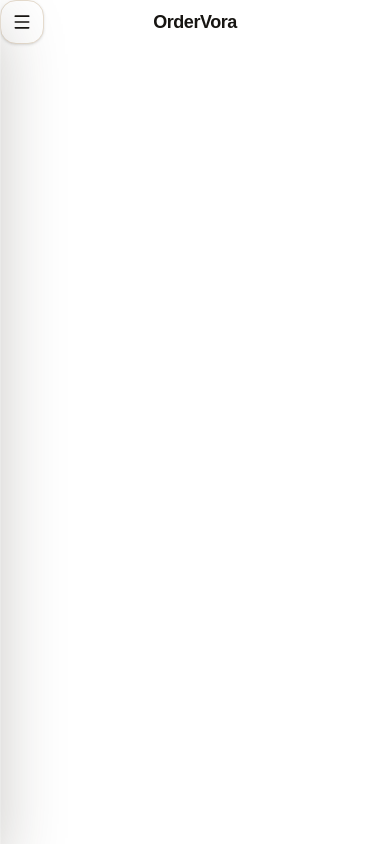
Test: DashboardDrawer (Sprint 19B-1) › closes when a link is selected or the backdrop is tapped
Click the button named "Open menu" at (22, 22), box [0,0,44,44]
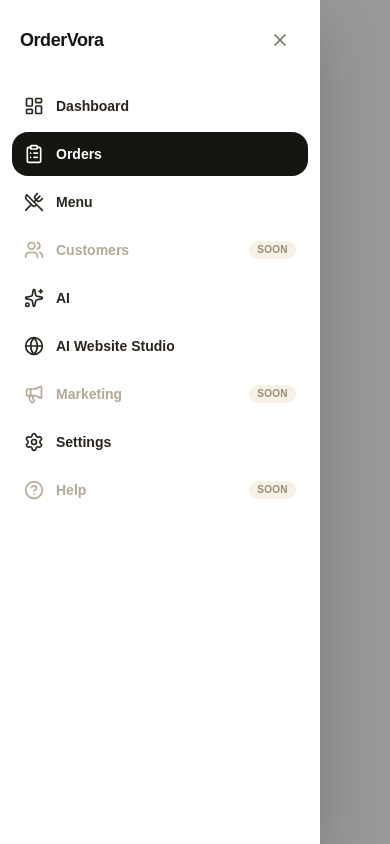
Now the button named "Open menu" is expanded, box [0,0,44,44]
Click the link "Dashboard" at (77, 106), box [24,96,129,116]
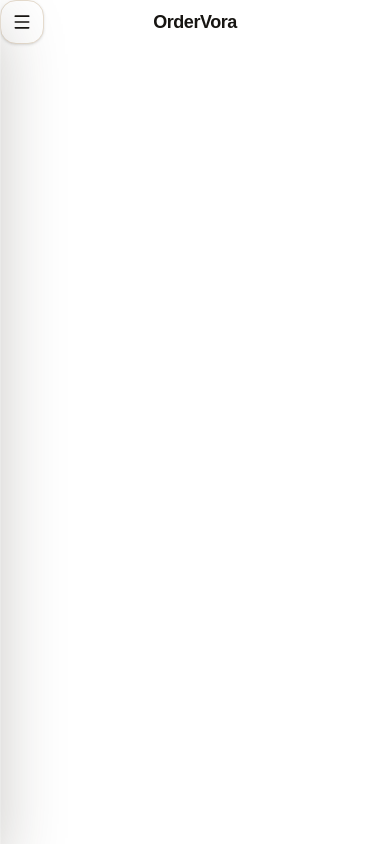
Now the button named "Open menu" is collapsed
Click the button named "Open menu" at (22, 22), box [0,0,44,44]
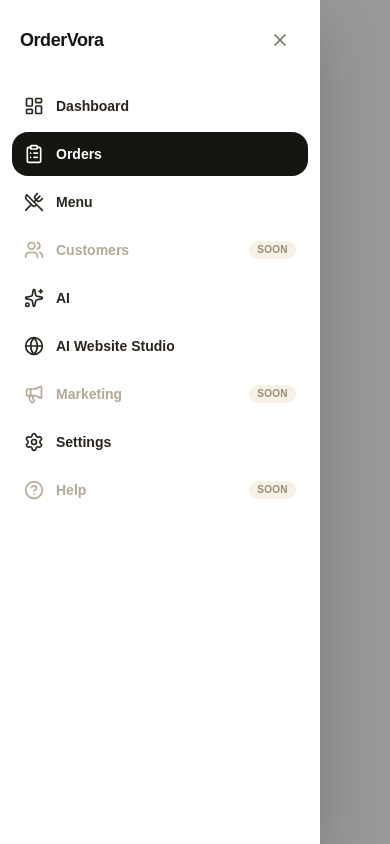
Now the button named "Open menu" is expanded, box [0,0,44,44]
Click the 1st button named "Close navigation menu" at (367, 422), box [0,0,389,843]
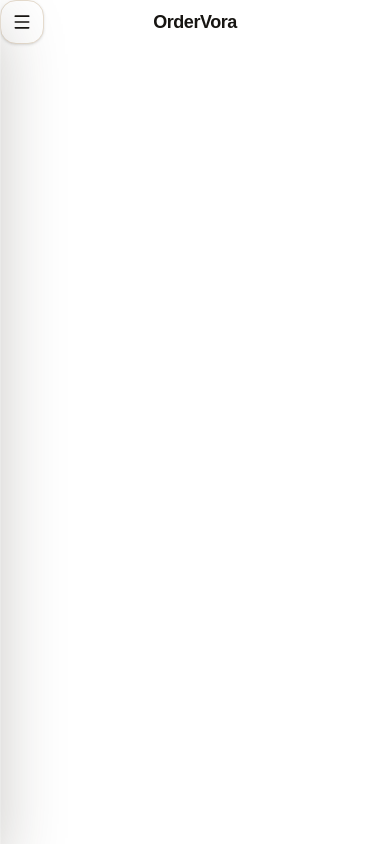
Now the button named "Open menu" is collapsed, box [0,0,44,44]
